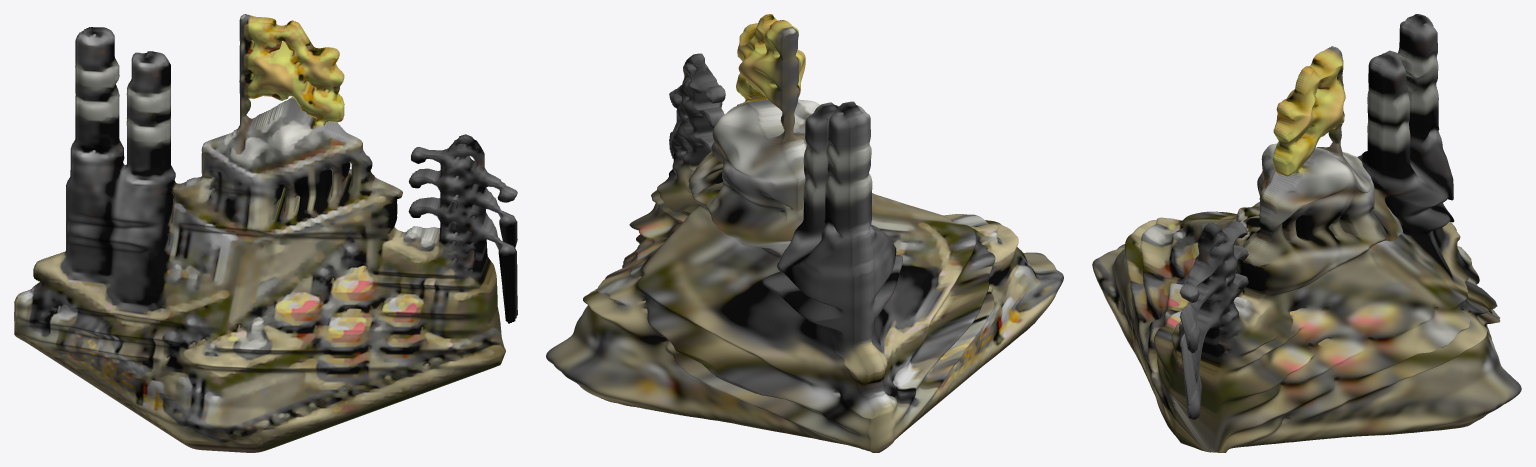
File: tech_power_plant.glb
3 renders of one model, left to right at view 1: azimuth 30°, elevation 25°; view 2: azimuth 150°, elevation 25°; view 3: azimuth 270°, elevation 25°, orthographic. The views are drawn at different scales.
Visible parts, largest first — view 1: tech_power_plant; view 2: tech_power_plant; view 3: tech_power_plant.
Boxes of the visible parts, x1=… form: tech_power_plant: x1=14, y1=14, x2=517, y2=452; tech_power_plant: x1=546, y1=14, x2=1063, y2=452; tech_power_plant: x1=1092, y1=14, x2=1521, y2=452.
Size of the model in its own units: 1.77 by 1.54 by 1.89.
